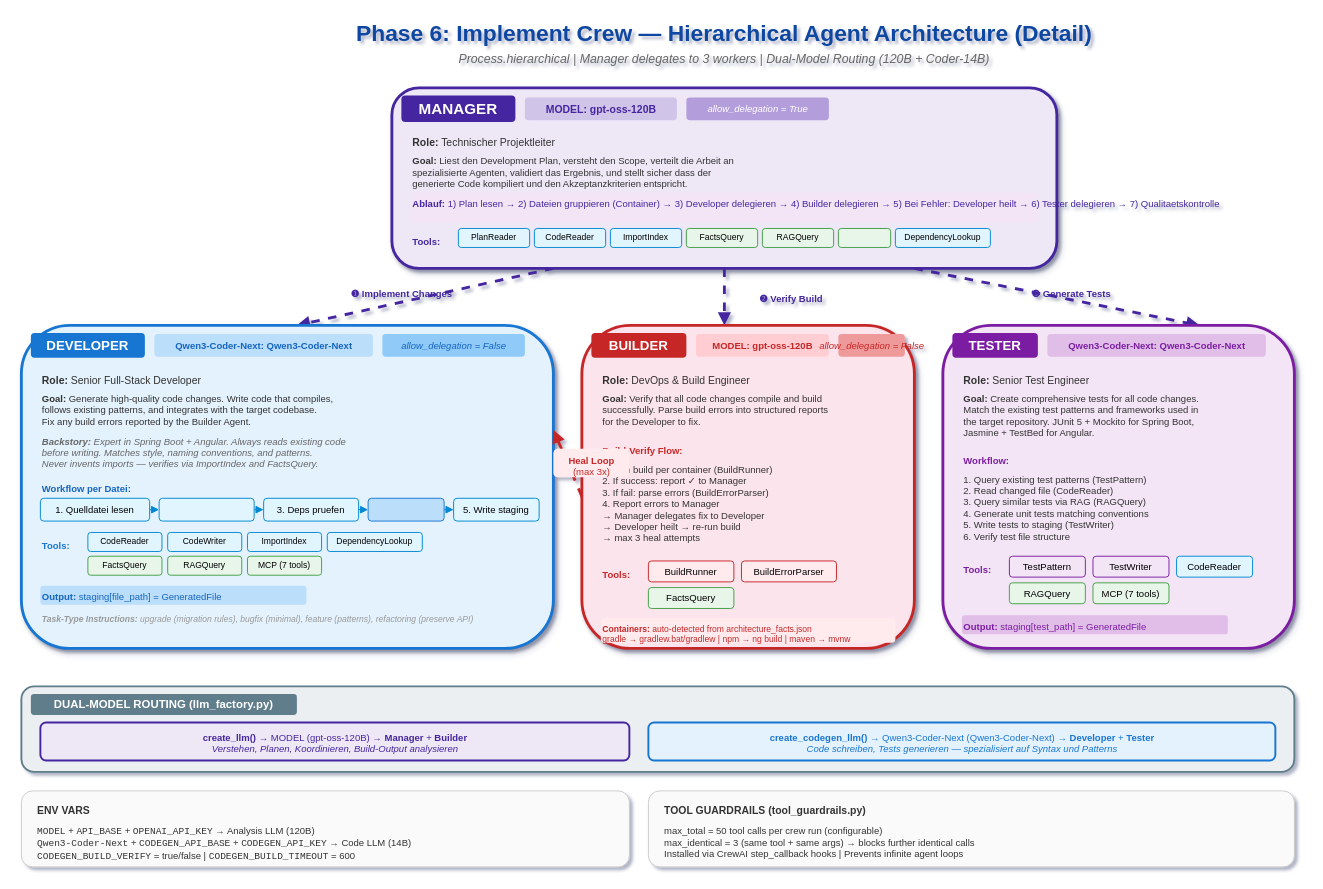
This 1323x889 diagram has some shape labels left out. The centre of each missing label's shape, as x and y in pixels:
"2. Imports lookup" goes at (x=206, y=509).
"4. Code gen" goes at (x=405, y=509).
"MCP (7)" goes at (x=864, y=237).
